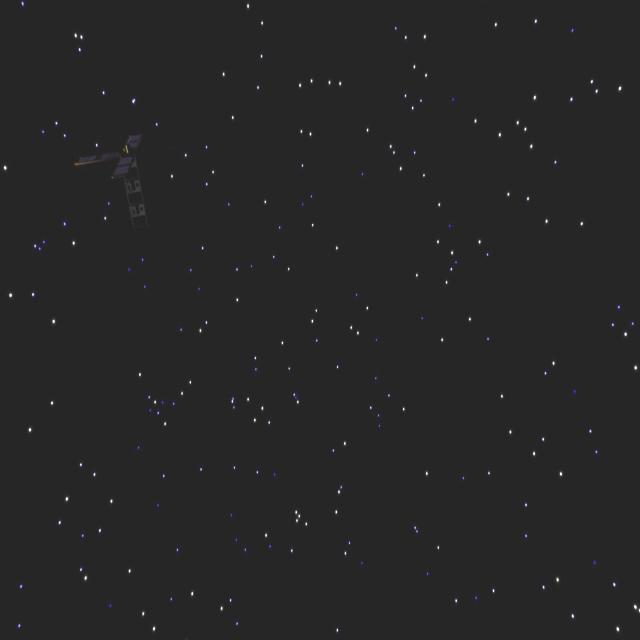medium_debris: (68, 136, 173, 220)
